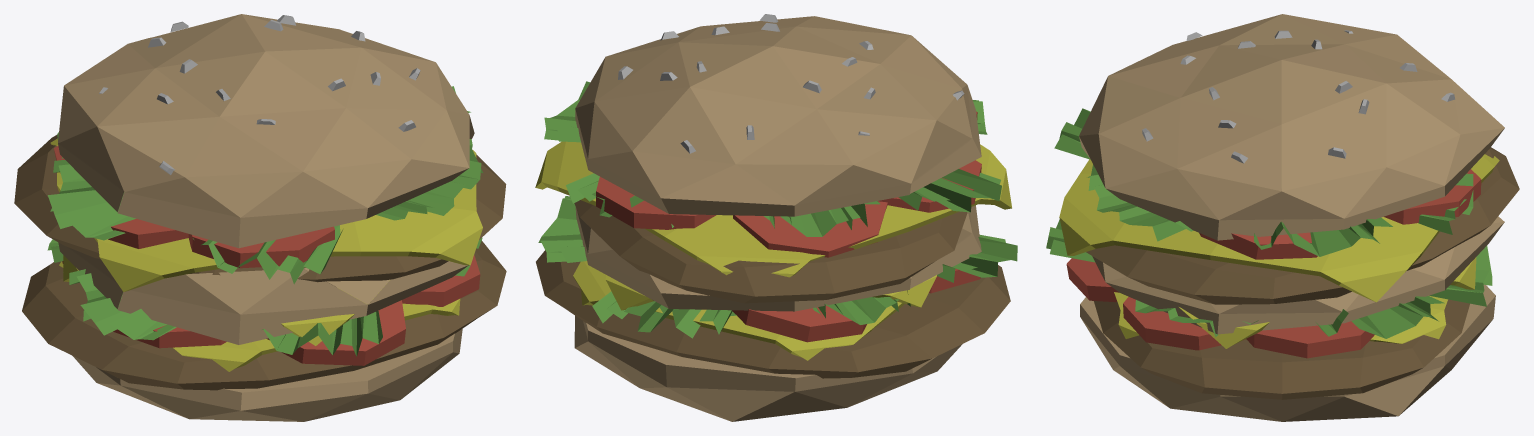
Rendered from whooper_Burger.gltf.
The picture shows the model from 3 angles, left to right: view 1: azimuth 30°, elevation 25°; view 2: azimuth 150°, elevation 25°; view 3: azimuth 270°, elevation 25°; orthographic projection. The views are drawn at different scales.
Parts seen in each view (by area): view 1: Burger.004, Burger.003, Burger.195, Burger.197, Burger.005, Burger, Burger.196, Burger.092, Burger.091, Burger.093, Burger.105, Burger.062 (+49 smaller); view 2: Burger.004, Burger.195, Burger.003, Burger, Burger.196, Burger.197, Burger.097, Burger.103, Burger.098, Burger.117, Burger.005, Burger.096 (+47 smaller); view 3: Burger.004, Burger.003, Burger.195, Burger.005, Burger.197, Burger, Burger.100, Burger.088, Burger.102, Burger.087, Burger.196, Burger.101 (+50 smaller).
Boxes of the visible parts, <box> form: Burger.004: <box>22,240,506,390</box>; Burger.003: <box>50,138,482,291</box>; Burger.195: <box>14,135,506,286</box>; Burger.197: <box>48,86,482,284</box>; Burger.005: <box>62,255,480,365</box>; Burger: <box>47,237,482,356</box>; Burger.196: <box>54,146,334,268</box>; Burger.092: <box>220,51,345,116</box>; Burger.091: <box>220,108,345,171</box>; Burger.093: <box>98,116,219,176</box>; Burger.105: <box>185,117,302,177</box>; Burger.062: <box>118,192,240,247</box>; Burger.004: <box>536,250,1010,378</box>; Burger.195: <box>574,200,967,303</box>; Burger.003: <box>535,141,1011,277</box>; Burger: <box>538,196,1017,338</box>; Burger.196: <box>596,111,981,257</box>; Burger.197: <box>544,81,1001,236</box>; Burger.097: <box>690,87,816,163</box>; Burger.103: <box>633,87,735,164</box>; Burger.098: <box>690,46,816,108</box>; Burger.117: <box>573,261,904,360</box>; Burger.005: <box>732,268,980,342</box>; Burger.096: <box>736,109,852,164</box>; Burger.004: <box>1094,299,1469,399</box>; Burger.003: <box>1059,154,1499,302</box>; Burger.195: <box>1086,147,1519,304</box>; Burger.005: <box>1066,258,1374,358</box>; Burger.197: <box>1054,108,1473,256</box>; Burger: <box>1046,219,1492,338</box>; Burger.100: <box>1282,83,1386,167</box>; Burger.088: <box>1177,98,1281,168</box>; Burger.102: <box>1281,124,1385,191</box>; Burger.087: <box>1177,124,1281,191</box>; Burger.196: <box>1199,169,1481,259</box>; Burger.101: <box>1281,60,1386,123</box>.
Bounding box in the file's own units: 1.8 × 1.31 × 1.75.
